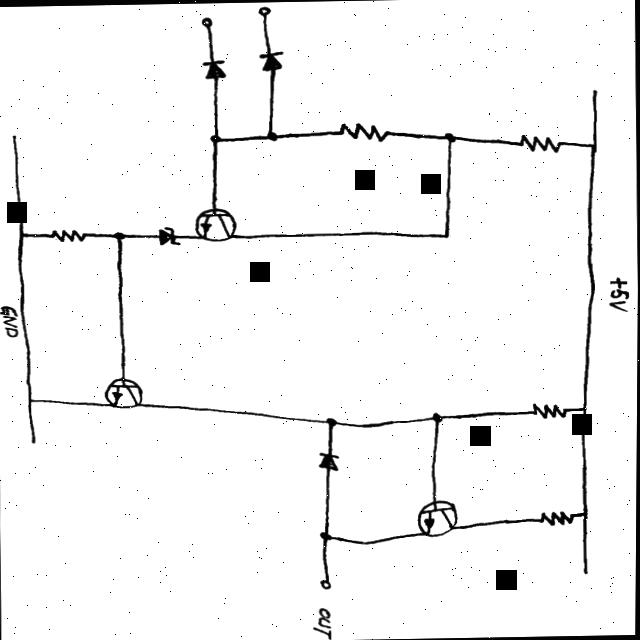diode: (256, 45, 286, 74), (199, 54, 230, 82), (313, 446, 343, 474), (153, 223, 182, 247)
junction: (203, 128, 226, 148), (107, 226, 131, 245), (440, 128, 462, 148), (264, 123, 284, 145), (14, 223, 34, 245), (427, 407, 449, 426), (20, 388, 42, 407), (317, 527, 340, 545), (323, 414, 345, 429), (586, 137, 604, 153), (578, 400, 596, 416), (581, 503, 596, 521), (438, 226, 455, 240)
resistor: (332, 120, 391, 143), (516, 131, 562, 154), (527, 401, 570, 420), (537, 508, 577, 527), (49, 227, 88, 242)
terminal: (315, 564, 338, 592), (197, 7, 216, 38), (254, 3, 275, 31), (578, 555, 595, 583), (586, 80, 605, 103), (8, 126, 22, 156), (24, 424, 41, 448)
text: (607, 273, 632, 316), (312, 606, 336, 639), (0, 303, 20, 340)
transistor: (415, 497, 464, 540), (193, 203, 240, 243), (103, 376, 146, 409)
